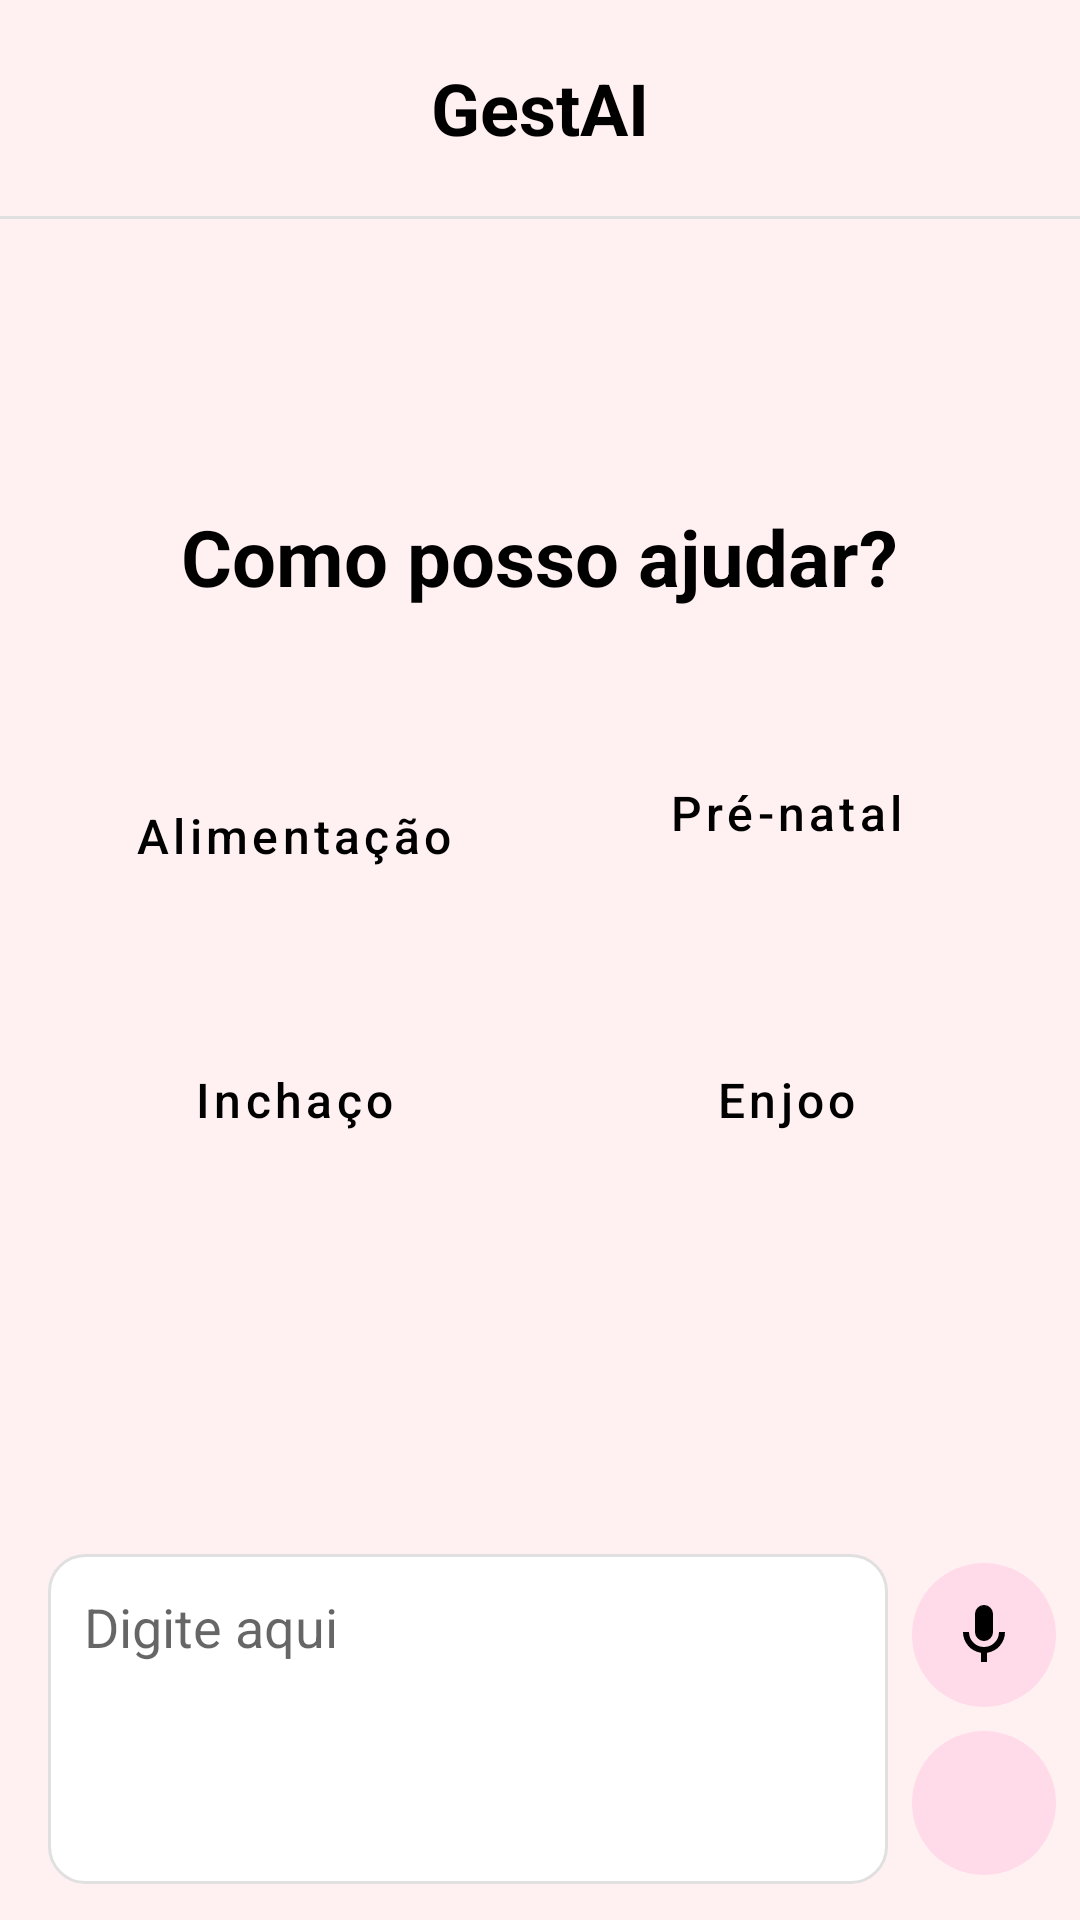

Screen size 1080×1920. Icon name, then its center in pixels as [x,y]:
Falar: [984,1635]
